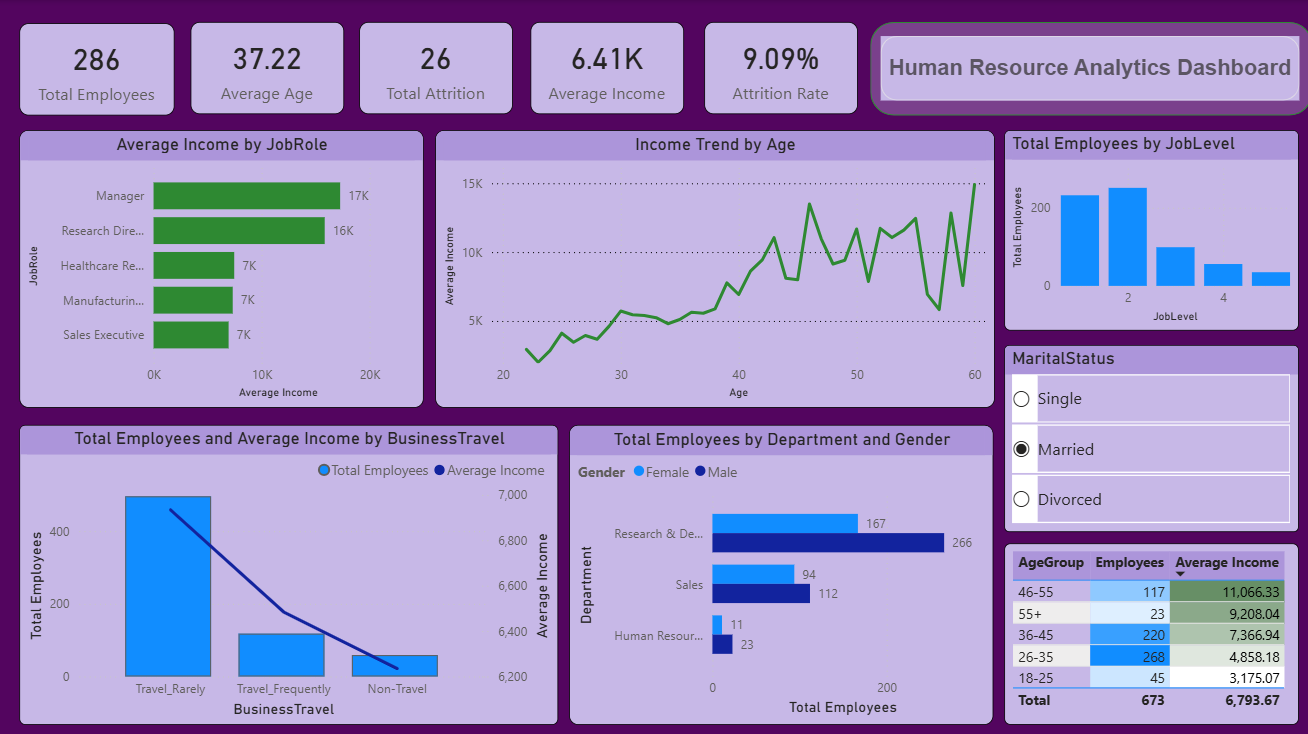

Layout of this report page (visuals, bound fields, positions):
{"tool":"powerbi","page":{"name":"HR Analytics","canvas":[1280,720],"ordinal":0},"visuals":[{"type":"card","fields":{"Values":["HR_Analytics.Total Employees"]},"box":[18.6,22.9,151.4,90],"z":0},{"type":"card","fields":{"Values":["HR_Analytics.Avg Age"]},"box":[185.7,21.4,150,90],"z":1},{"type":"card","fields":{"Values":["HR_Analytics.Total Attrition"]},"box":[350,21.4,150,90],"z":2},{"type":"card","fields":{"Values":["HR_Analytics.Average Income"]},"box":[517.1,21.4,150,90],"z":3},{"type":"lineChart","title":"Income Trend by Age","fields":{"Category":["HR_Analytics.Age"],"Y":["HR_Analytics.Average Income"]},"box":[424.3,127.1,545.7,271.4],"z":4},{"type":"lineStackedColumnComboChart","fields":{"Category":["HR_Analytics.BusinessTravel"],"Y":["HR_Analytics.Total Employees"],"Y2":["HR_Analytics.Average Income"]},"box":[18.6,414.3,525.7,292.9],"z":5},{"type":"clusteredBarChart","fields":{"Y":["HR_Analytics.Total Employees"],"Category":["HR_Analytics.Department"],"Series":["HR_Analytics.Gender"]},"box":[555.7,414.3,414.3,292.9],"z":6},{"type":"clusteredBarChart","fields":{"Category":["HR_Analytics.JobRole"],"Y":["HR_Analytics.Average Income"]},"box":[18.6,127.1,394.3,271.4],"z":7},{"type":"tableEx","fields":{"Values":["HR_Analytics.AgeGroup","HR_Analytics.Total Employees","HR_Analytics.Average Income"]},"box":[980,530,287.1,177.1],"z":9},{"type":"listSlicer","fields":{"Values":["HR_Analytics.MaritalStatus"]},"box":[980,337.1,287.1,182.9],"z":10},{"type":"lineStackedColumnComboChart","fields":{"Category":["HR_Analytics.JobLevel"],"Y":["HR_Analytics.Total Employees"]},"box":[980,127.1,287.1,195.7],"z":11},{"type":"card","fields":{"Values":["HR_Analytics.Attrition Rate"]},"box":[687.1,21.4,150,90],"z":12},{"type":"shape","box":[858.6,35.7,408.6,62.9],"z":13},{"type":"shape","box":[848.6,21.4,431.4,91.4],"z":14}]}

Visuals, with their boxes in screenshot pixels (x1, y1, x2, y2), scaled from the page's 1280x720 canvas onto the 1308x734 screenshot:
card - HR_Analytics.Total Employees: 19/23/174/115
card - HR_Analytics.Avg Age: 190/22/343/114
card - HR_Analytics.Total Attrition: 358/22/511/114
card - HR_Analytics.Average Income: 528/22/682/114
"Income Trend by Age" lineChart: 434/130/991/406
lineStackedColumnComboChart - HR_Analytics.BusinessTravel x HR_Analytics.Total Employees: 19/422/556/721
clusteredBarChart - HR_Analytics.Total Employees x HR_Analytics.Department: 568/422/991/721
clusteredBarChart - HR_Analytics.JobRole x HR_Analytics.Average Income: 19/130/422/406
tableEx - HR_Analytics.AgeGroup x HR_Analytics.Total Employees: 1001/540/1295/721
listSlicer - HR_Analytics.MaritalStatus: 1001/344/1295/530
lineStackedColumnComboChart - HR_Analytics.JobLevel x HR_Analytics.Total Employees: 1001/130/1295/329
card - HR_Analytics.Attrition Rate: 702/22/855/114
shape: 877/36/1295/101
shape: 867/22/1307/115
